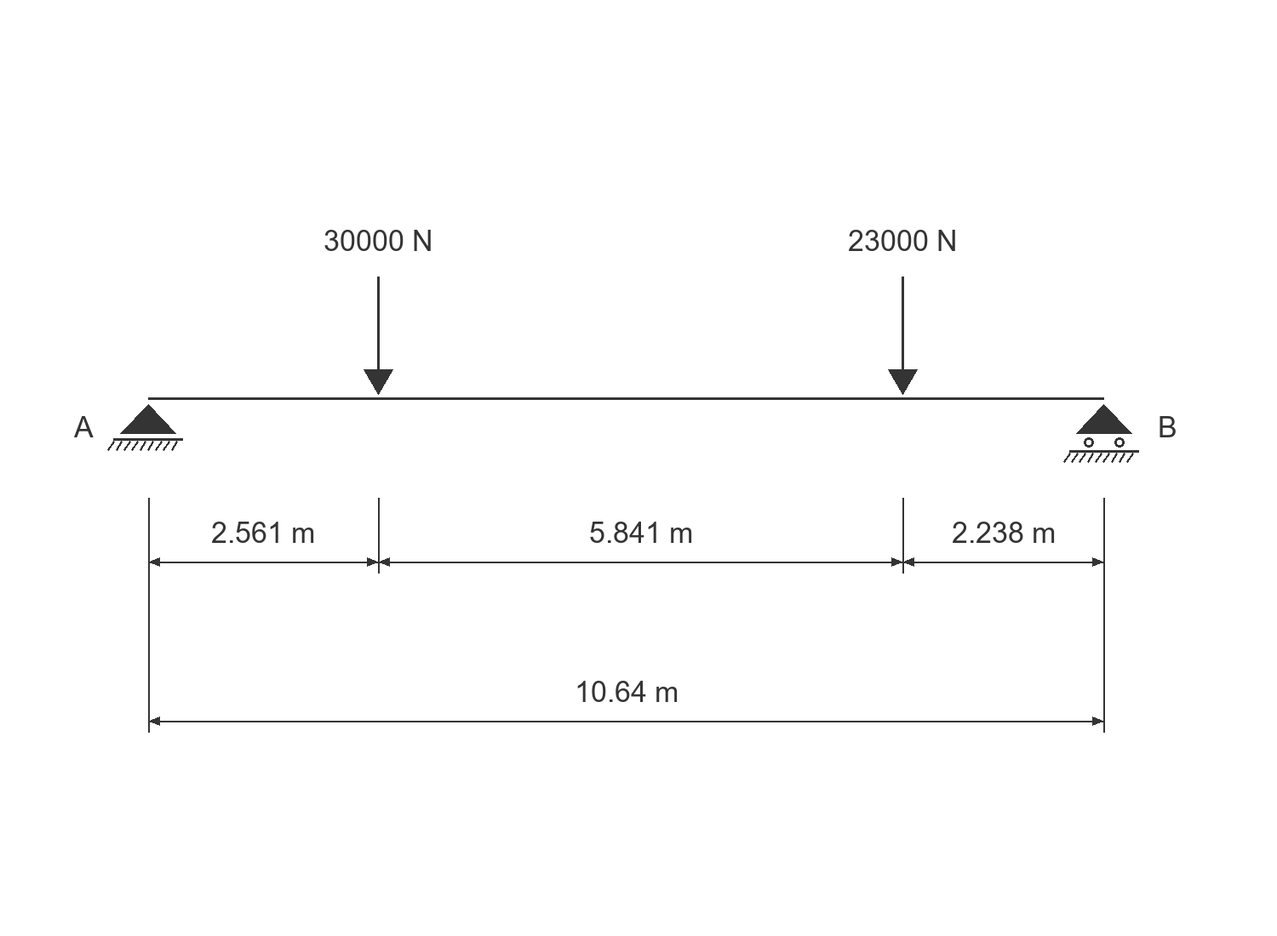pin_support: (107, 404, 183, 451)
point_load: (888, 277, 918, 395), (364, 277, 393, 395)
roller_support: (1063, 404, 1139, 463)
